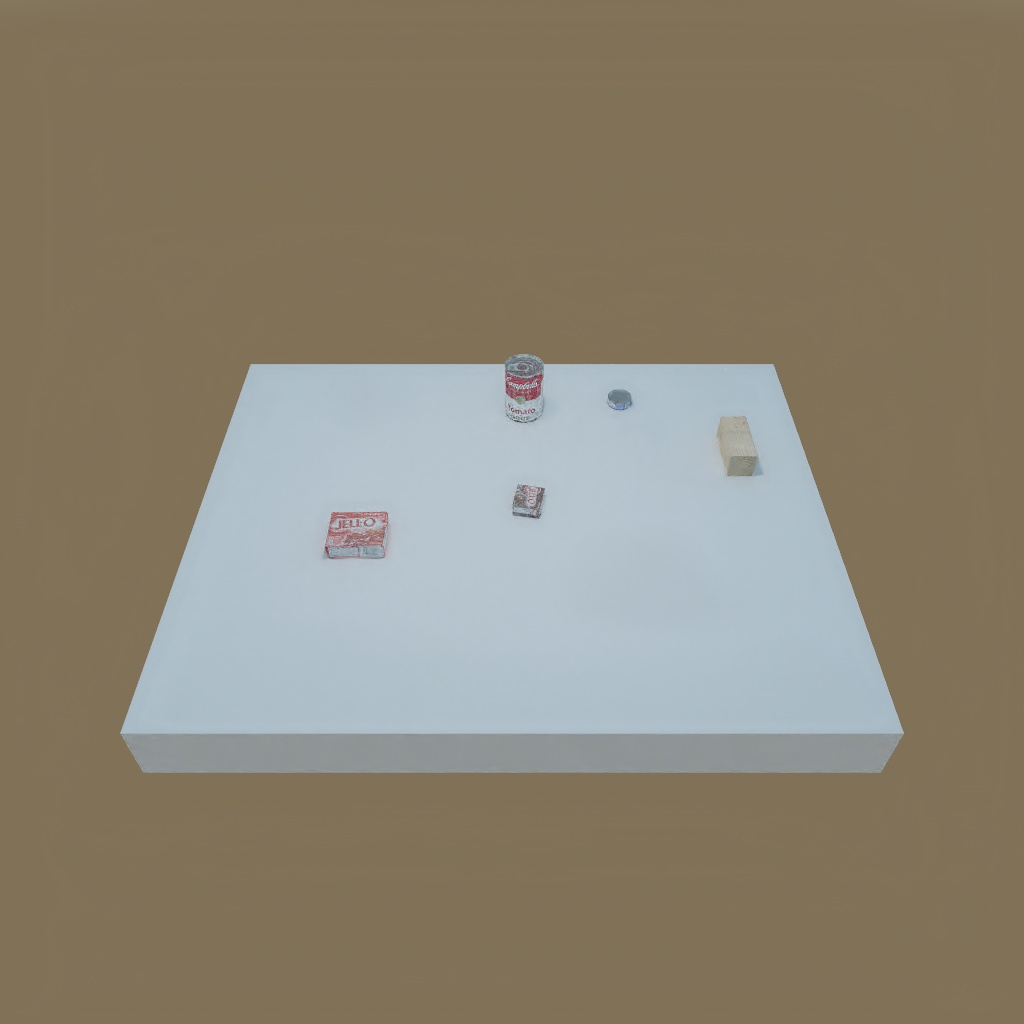gelatin_box: (321, 510, 391, 561)
pudding_box: (512, 480, 544, 522)
tomato_soup_can: (497, 357, 545, 426)
wood_block: (711, 412, 759, 483)
